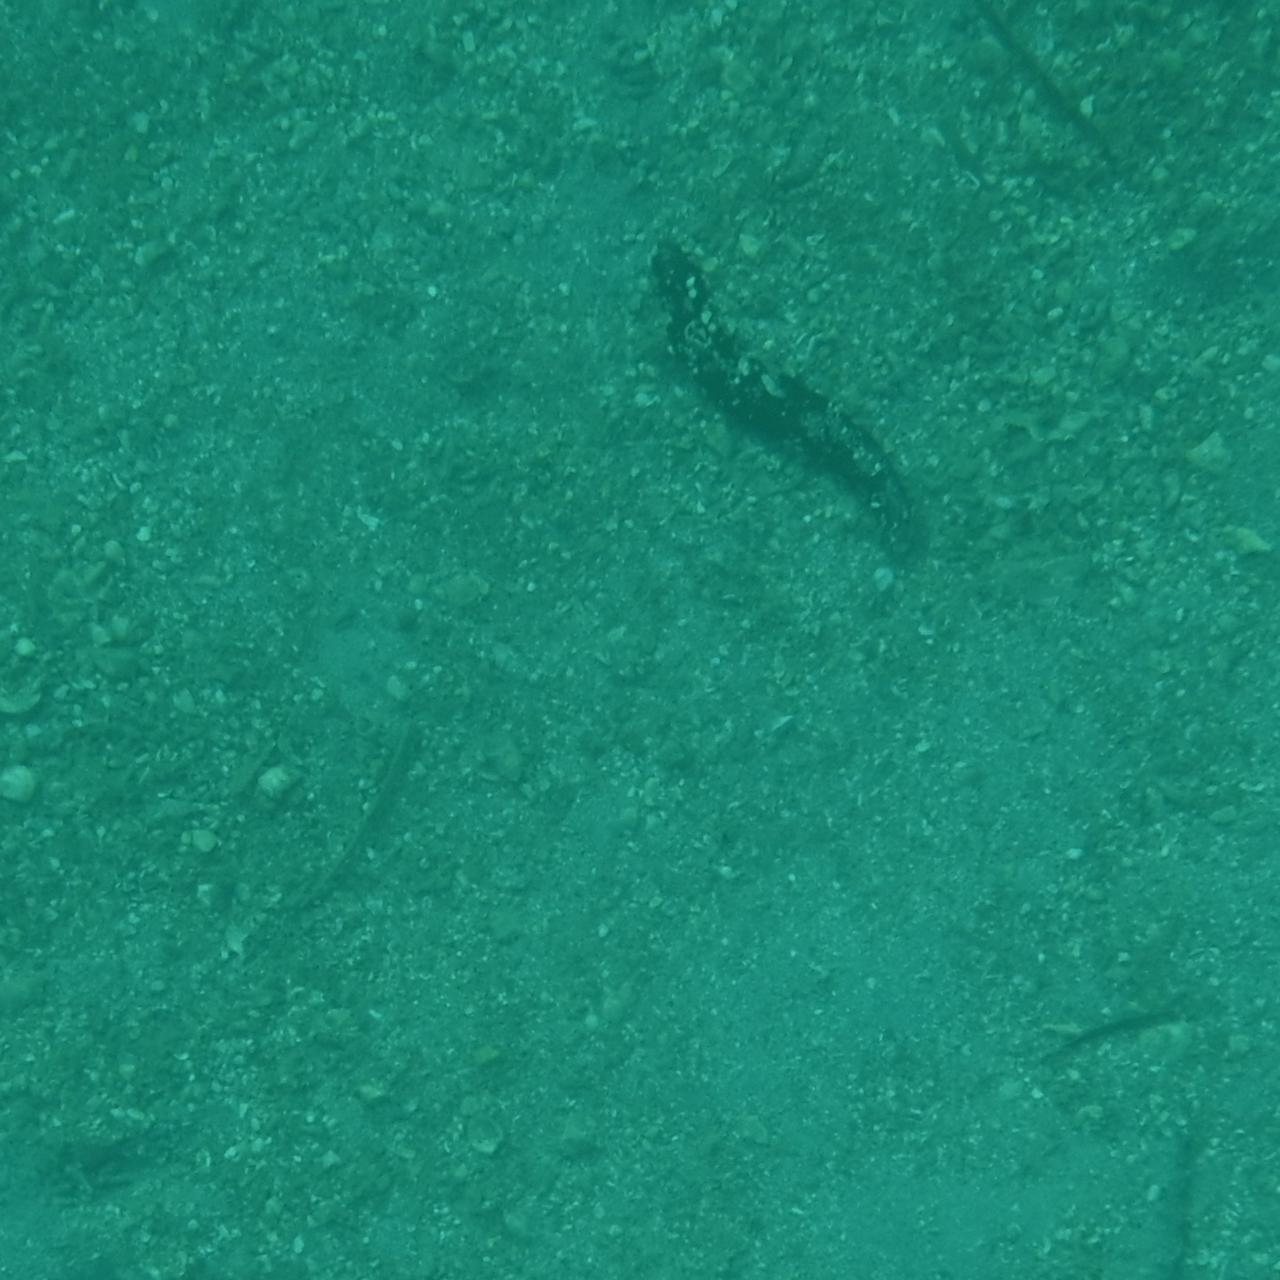Holothuria tubulosa: (640, 248, 938, 544), (953, 1081, 1212, 1280), (1126, 931, 1280, 1232), (1167, 5, 1280, 353), (206, 1068, 380, 1280), (0, 0, 307, 86), (0, 117, 175, 259), (1129, 1123, 1280, 1280), (1200, 0, 1280, 292), (0, 0, 203, 84), (1193, 0, 1280, 182)
